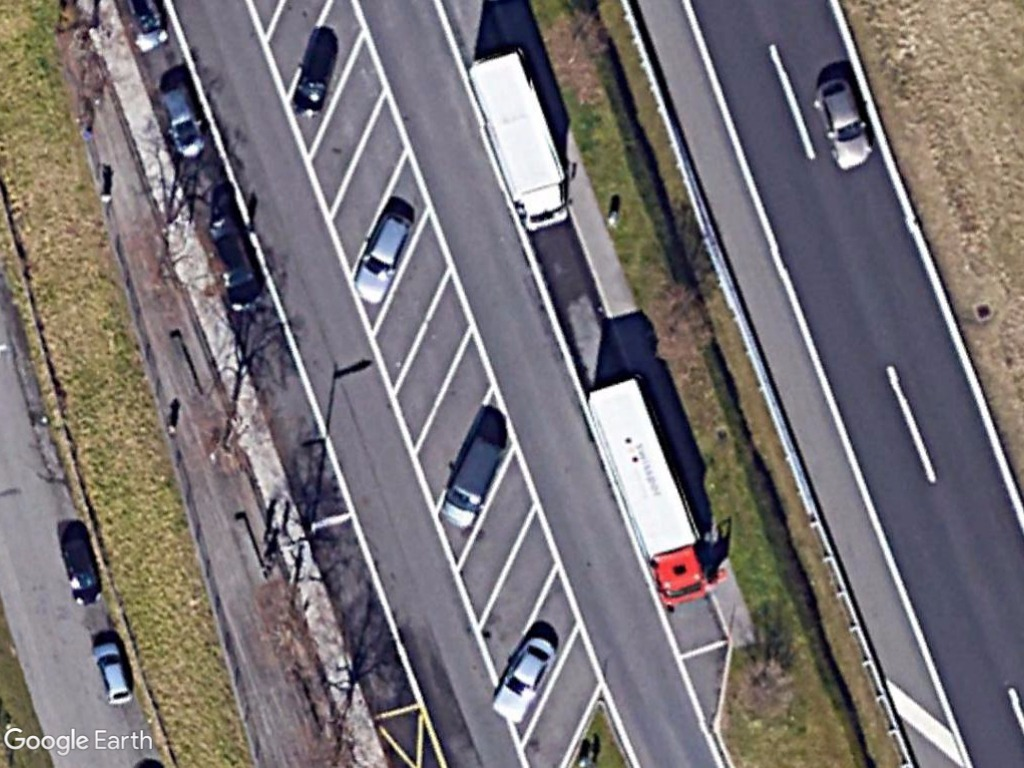car: (349, 199, 414, 311), (806, 72, 874, 176), (487, 628, 556, 728), (150, 82, 213, 166), (91, 636, 136, 712)
truck: (585, 368, 722, 605), (464, 46, 581, 234)
van: (439, 424, 506, 536)
